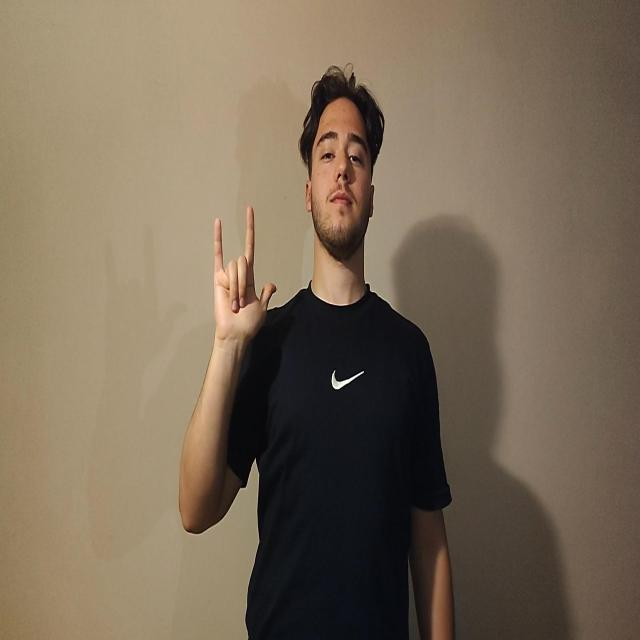iloveyou: (212, 204, 277, 347)
